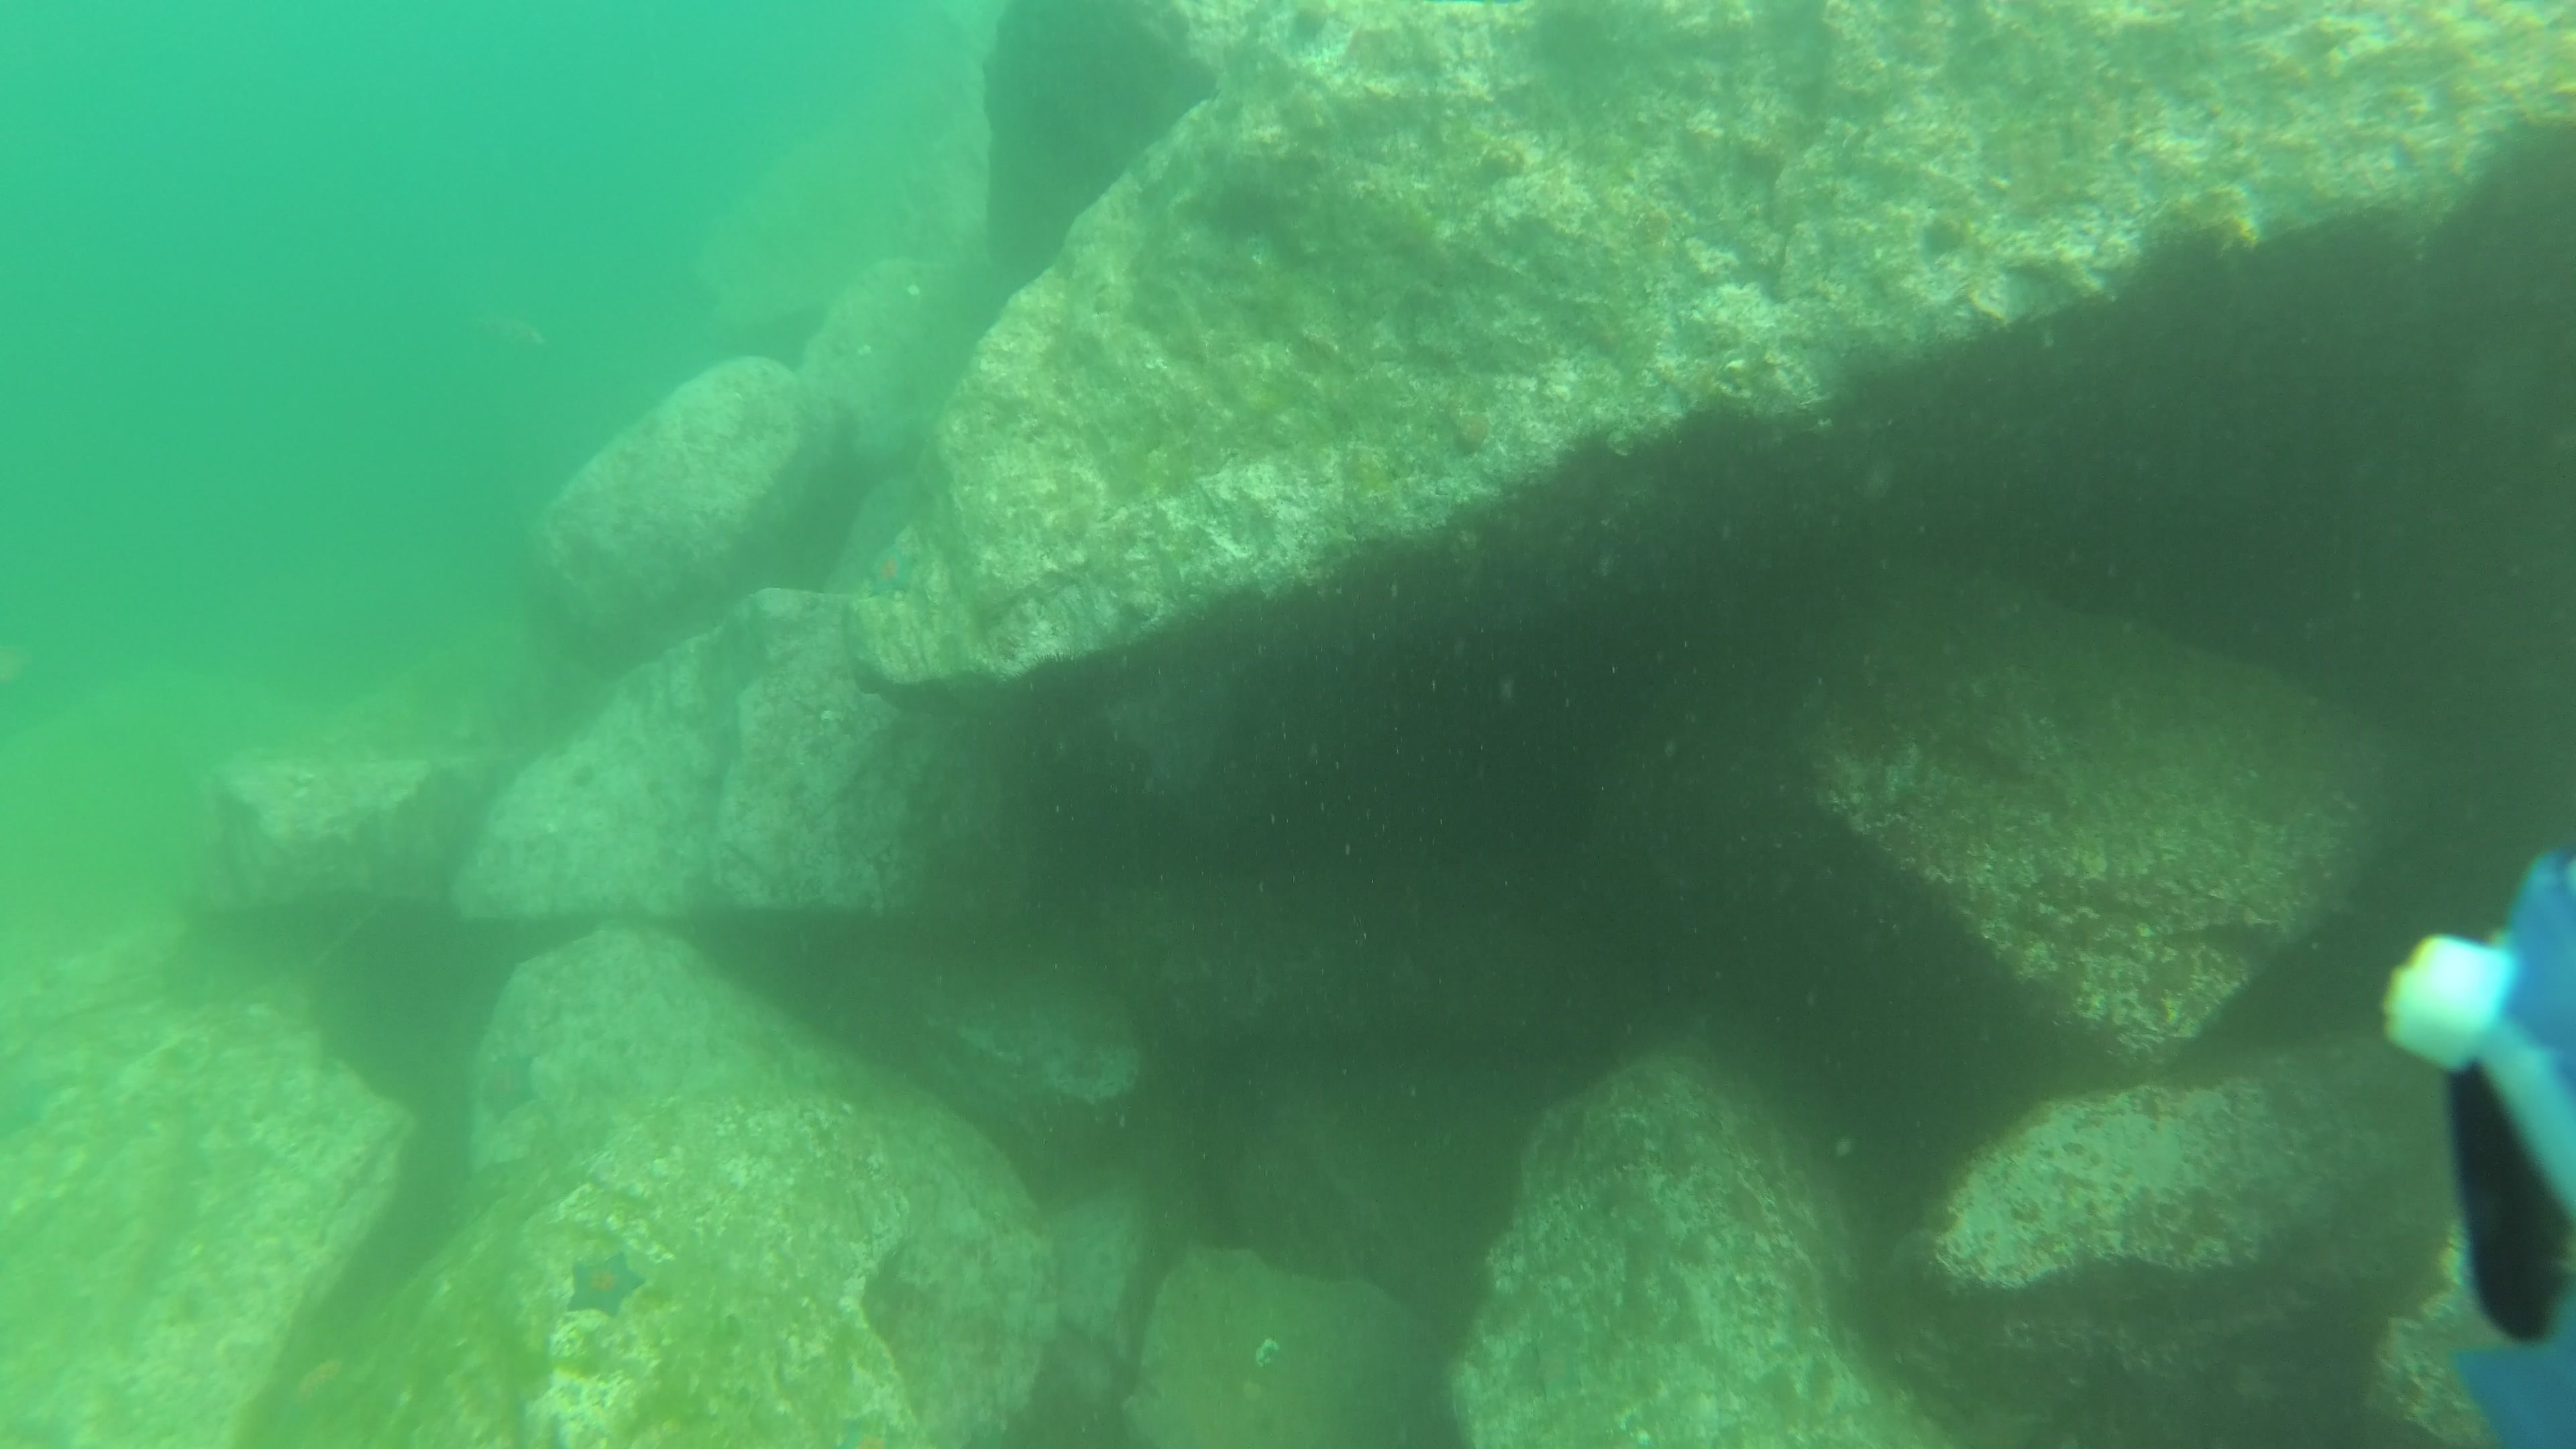starfish: (561, 1249, 649, 1322), (472, 1046, 545, 1127), (862, 540, 925, 600)
